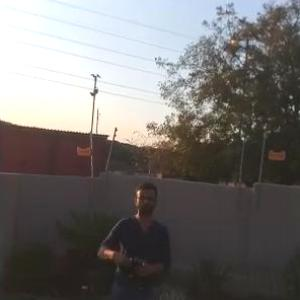follow: (92, 171, 178, 299)
